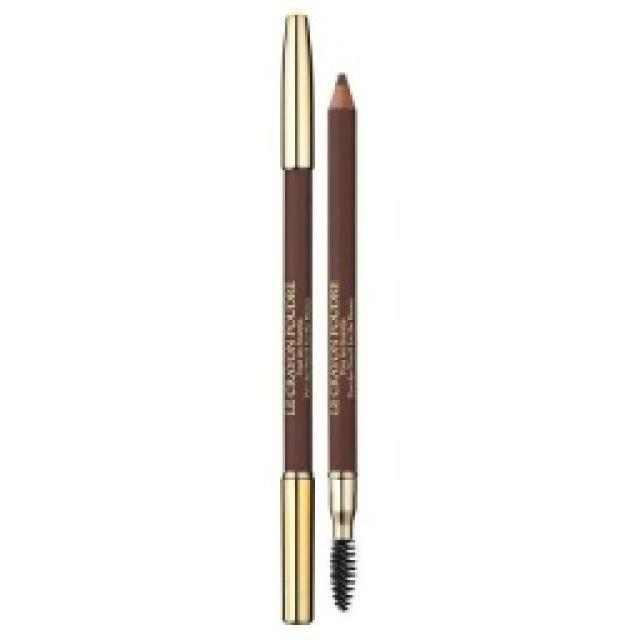pencil: (270, 7, 362, 625)
